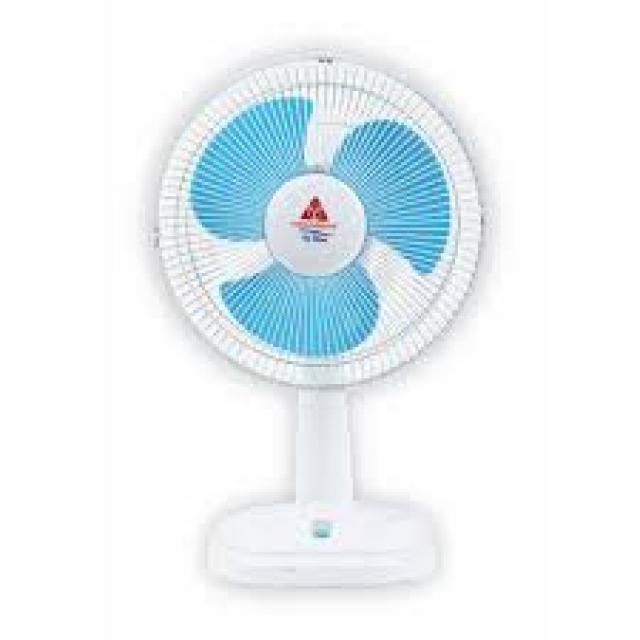fan: (134, 42, 512, 610)
